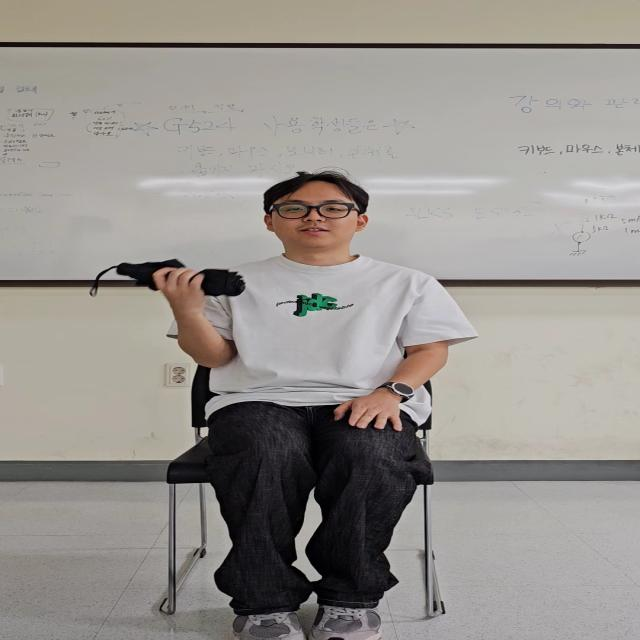curl: (105, 244, 256, 372)
